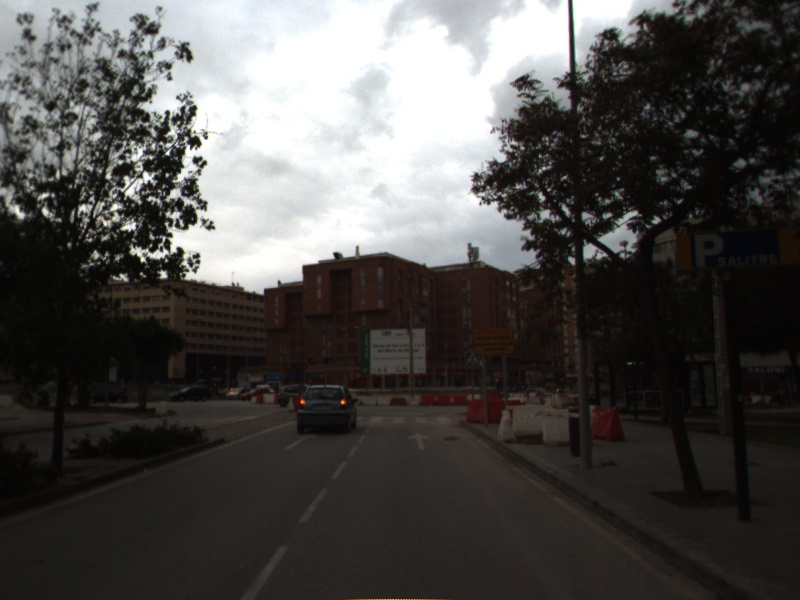STRAIGHT: (282, 432, 321, 451), (405, 430, 435, 452)
